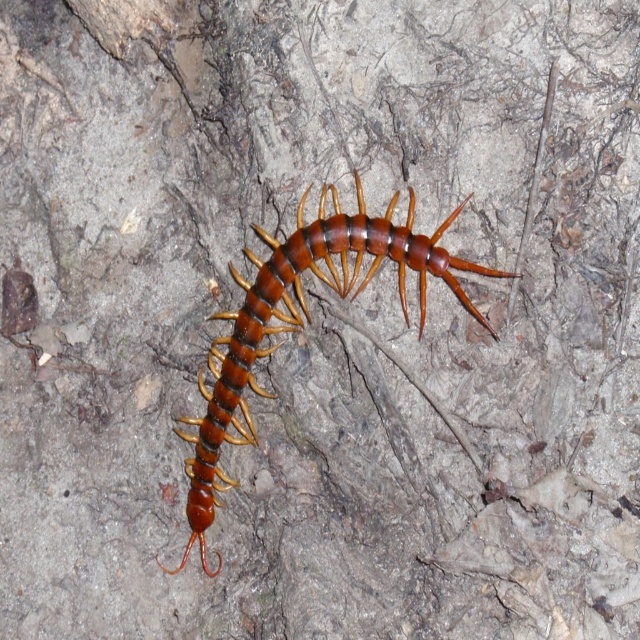Centipede: (156, 169, 525, 578)
